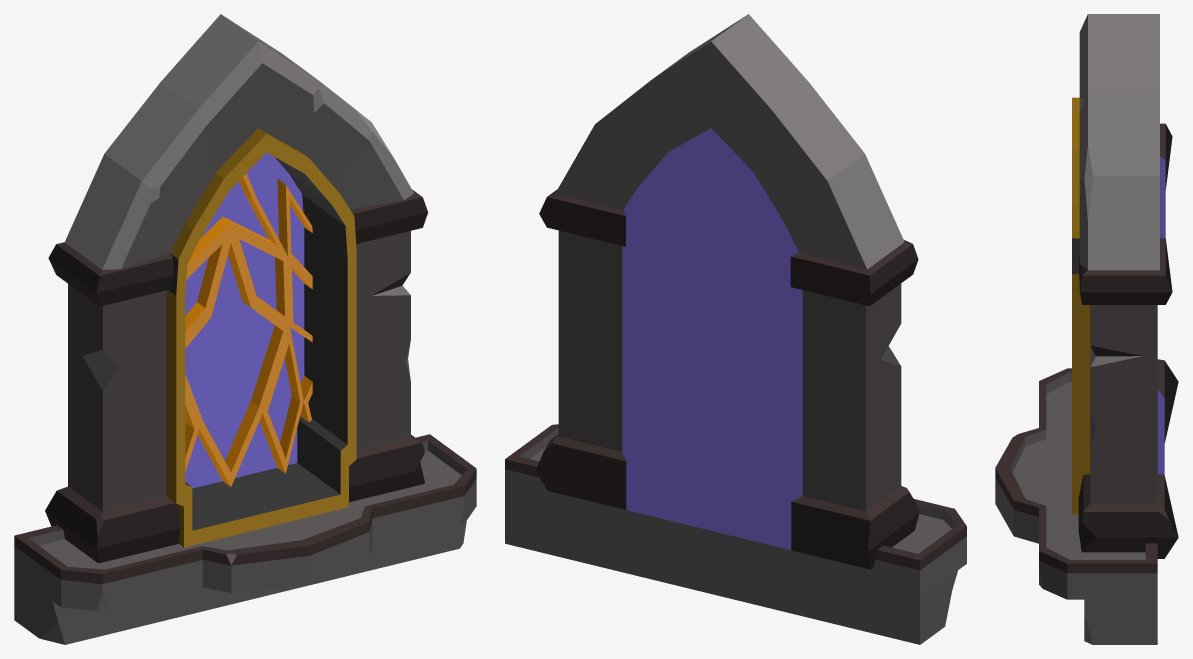
File: Window_03.glb
3 renders of one model, left to right at view 1: azimuth 30°, elevation 25°; view 2: azimuth 150°, elevation 25°; view 3: azimuth 270°, elevation 25°, orthographic. The views are drawn at different scales.
Parts seen in each view (by area): view 1: Window_03; view 2: Window_03; view 3: Window_03.
Part boxes in pixels (<box>): Window_03: <box>14,14,476,644</box>; Window_03: <box>505,14,966,644</box>; Window_03: <box>995,14,1178,644</box>.
Size of what is drawn, in the model's own units: 1.7 by 2.17 by 0.677.
1 material, 1 textured.
